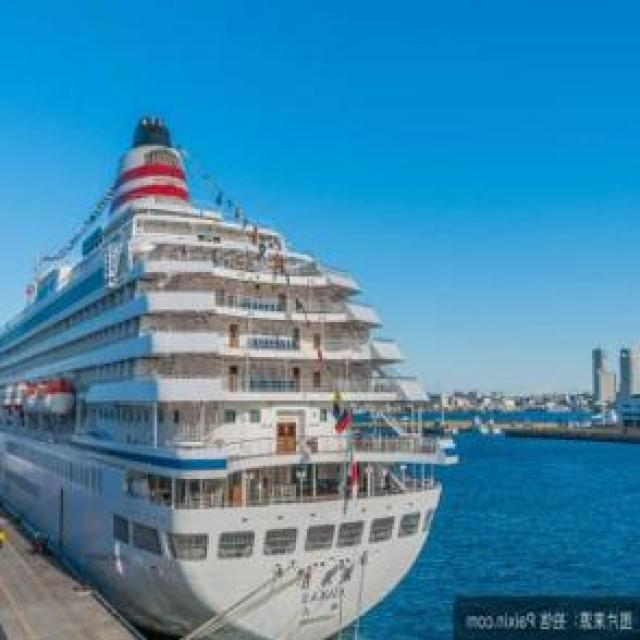passenger ship: (0, 113, 453, 636)
